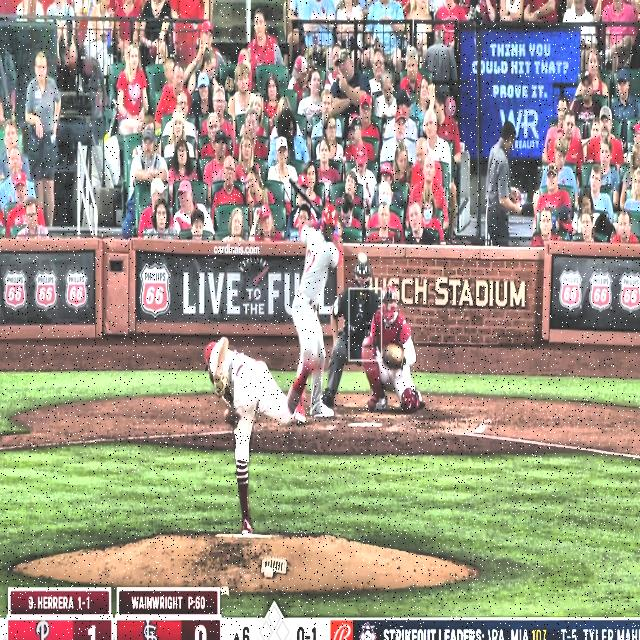baseball: (357, 251, 368, 266)
